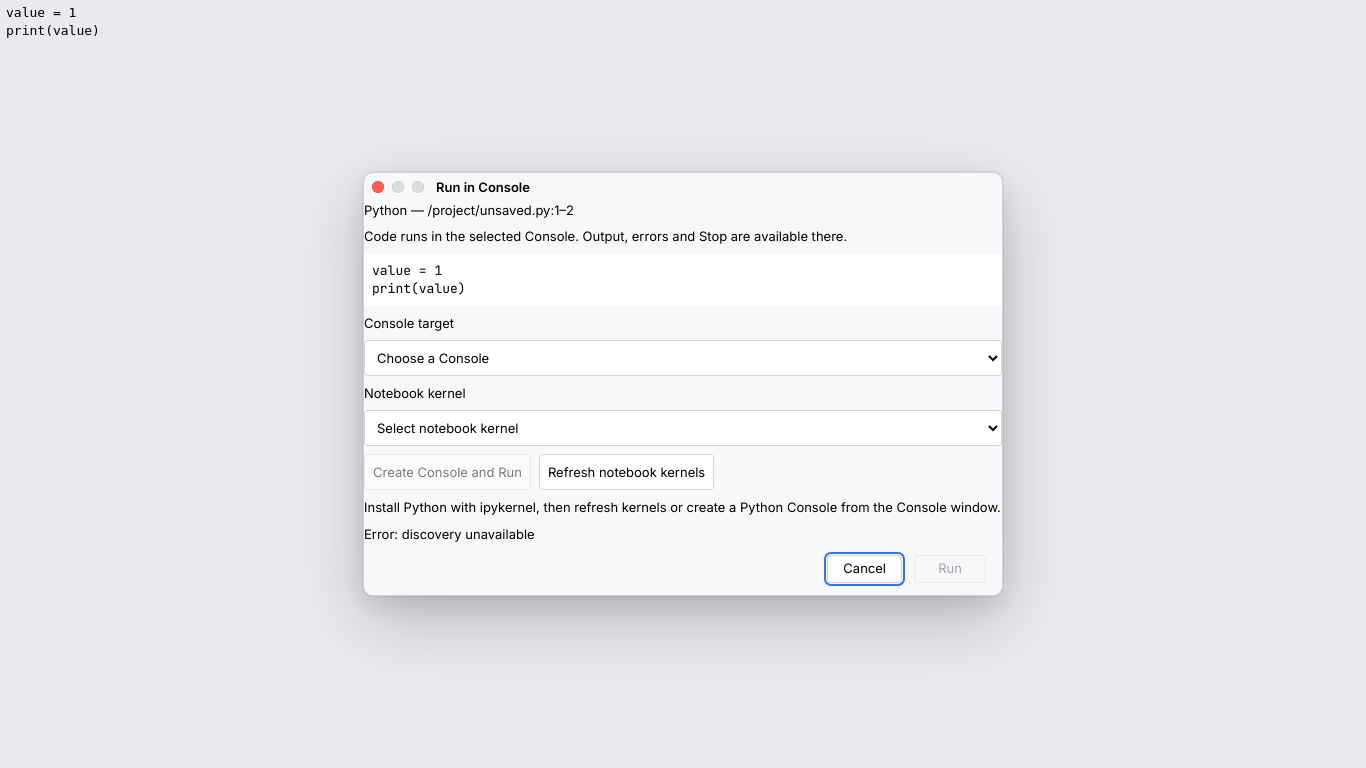
Editor Run actions and DOM (mock U7 boundary) › refreshes discovery failures without losing the captured source
This screenshot has width=1366, height=768.
Expected: the message shows "discovery unavailable", [364,526,535,542]
Expected: the text "Install Python with ipykernel" is shown, [364,500,1001,516]
Step 1. Click the button "Refresh notebook kernels" → {"x": 627, "y": 472}, box [539,454,714,490]
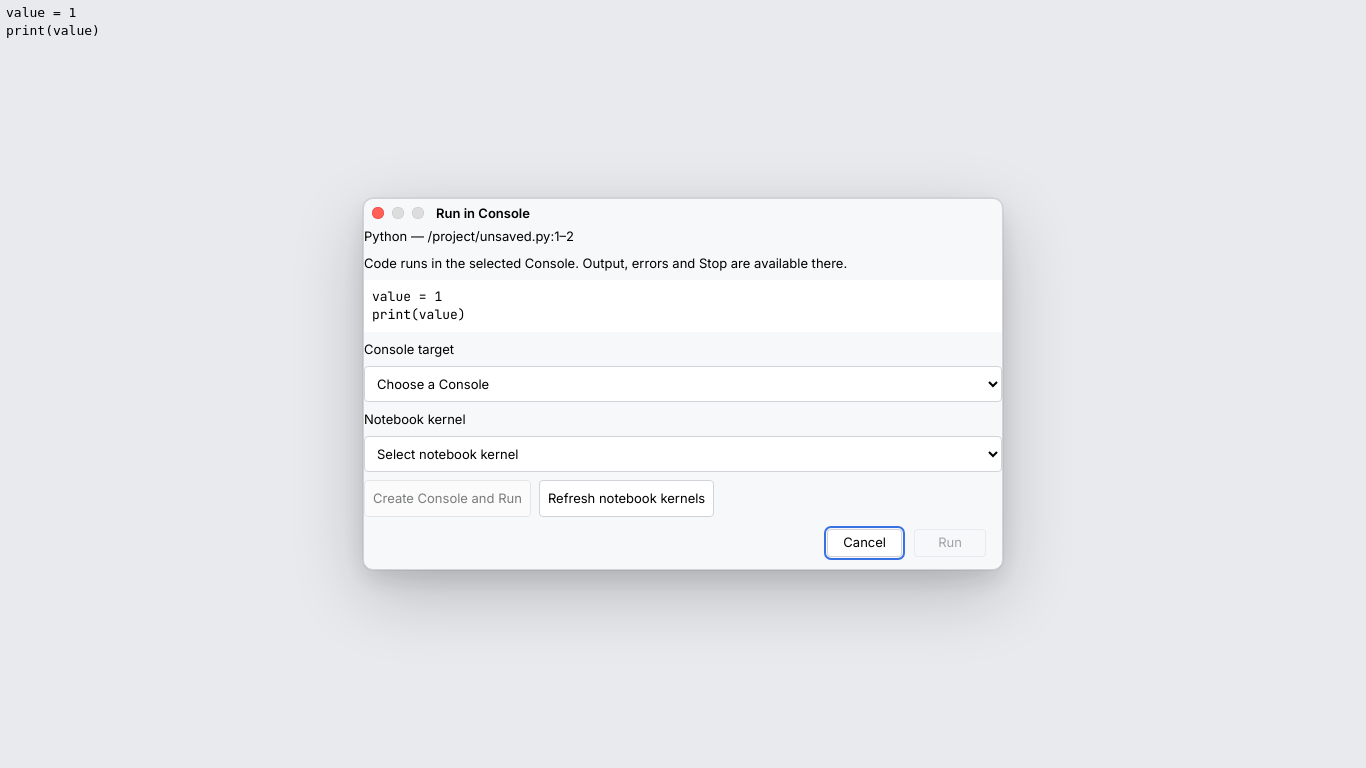
Now the message "Error: discovery unavailable" is gone
